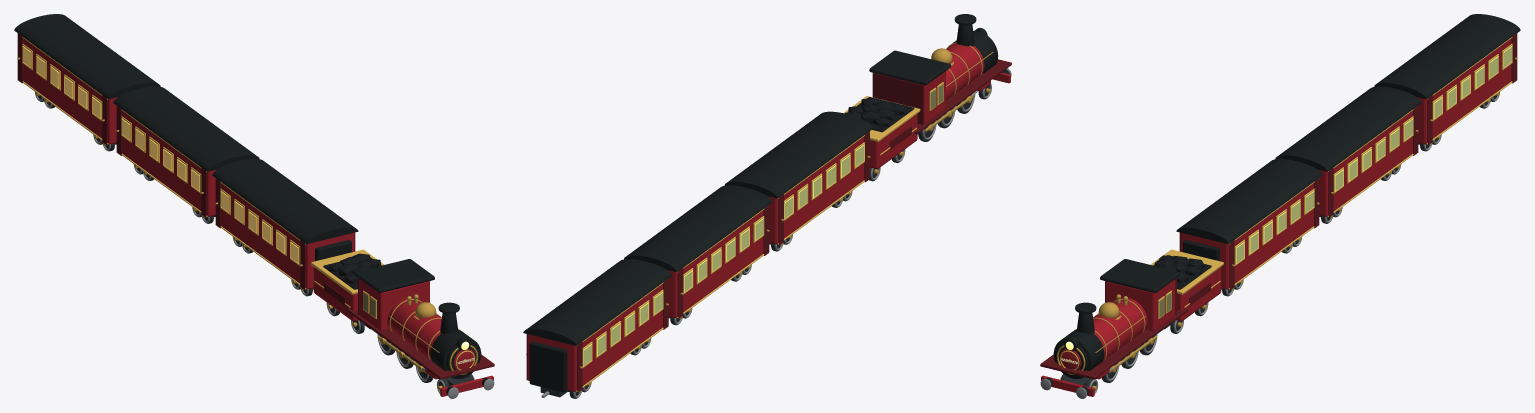
The model's file is hogwarts_express.glb.
The picture shows the model from 3 angles, left to right: view 1: azimuth 30°, elevation 25°; view 2: azimuth 150°, elevation 25°; view 3: azimuth 330°, elevation 25°; orthographic projection.
Parts seen in each view (by area): view 1: WEB_Train_Batched_18_MAT_Smokebox_Black, WEB_Train_Batched_29_MAT_Smokebox_Black, WEB_Train_Batched_40_MAT_Smokebox_Black, WEB_Train_Batched_02_MAT_Express_Crimson, WEB_Train_Batched_03_MAT_Smokebox_Black, CAR_01_Body, CAR_03_Body, CAR_02_Body, WEB_Train_Batched_01_MAT_Express_Shadow_Red, WEB_Train_Batched_04_MAT_Aged_Brass, WEB_Train_Batched_42_MAT_Warm_Interior, WEB_Train_Batched_20_MAT_Warm_Interior (+13 smaller); view 2: WEB_Train_Batched_40_MAT_Smokebox_Black, WEB_Train_Batched_29_MAT_Smokebox_Black, WEB_Train_Batched_18_MAT_Smokebox_Black, CAR_03_Body, WEB_Train_Batched_03_MAT_Smokebox_Black, CAR_01_Body, CAR_02_Body, WEB_Train_Batched_01_MAT_Express_Shadow_Red, WEB_Train_Batched_02_MAT_Express_Crimson, WEB_Train_Batched_13_MAT_Coal, TND_Body, WEB_Train_Batched_41_MAT_Carriage_Gold_Line (+13 smaller); view 3: WEB_Train_Batched_18_MAT_Smokebox_Black, WEB_Train_Batched_29_MAT_Smokebox_Black, WEB_Train_Batched_40_MAT_Smokebox_Black, WEB_Train_Batched_02_MAT_Express_Crimson, WEB_Train_Batched_03_MAT_Smokebox_Black, CAR_01_Body, CAR_03_Body, CAR_02_Body, WEB_Train_Batched_01_MAT_Express_Shadow_Red, WEB_Train_Batched_04_MAT_Aged_Brass, WEB_Train_Batched_42_MAT_Warm_Interior, WEB_Train_Batched_20_MAT_Warm_Interior (+13 smaller).
Part boxes in pixels (x1,y1,x2,y2): WEB_Train_Batched_18_MAT_Smokebox_Black: (212, 159, 358, 261); WEB_Train_Batched_29_MAT_Smokebox_Black: (113, 86, 259, 171); WEB_Train_Batched_40_MAT_Smokebox_Black: (14, 14, 160, 99); WEB_Train_Batched_02_MAT_Express_Crimson: (359, 279, 493, 396); WEB_Train_Batched_03_MAT_Smokebox_Black: (354, 259, 488, 394); CAR_01_Body: (221, 183, 354, 289); CAR_03_Body: (23, 38, 117, 144); CAR_02_Body: (122, 110, 216, 216); WEB_Train_Batched_01_MAT_Express_Shadow_Red: (347, 278, 494, 379); WEB_Train_Batched_04_MAT_Aged_Brass: (377, 294, 478, 374); WEB_Train_Batched_42_MAT_Warm_Interior: (22, 46, 101, 119); WEB_Train_Batched_20_MAT_Warm_Interior: (220, 191, 298, 264); WEB_Train_Batched_40_MAT_Smokebox_Black: (523, 259, 671, 392); WEB_Train_Batched_29_MAT_Smokebox_Black: (624, 185, 772, 272); WEB_Train_Batched_18_MAT_Smokebox_Black: (724, 111, 873, 198); CAR_03_Body: (527, 284, 662, 391); WEB_Train_Batched_03_MAT_Smokebox_Black: (869, 14, 1009, 85); CAR_01_Body: (768, 136, 864, 244); CAR_02_Body: (667, 210, 763, 317); WEB_Train_Batched_01_MAT_Express_Shadow_Red: (872, 59, 1011, 134); WEB_Train_Batched_02_MAT_Express_Crimson: (924, 42, 1010, 123); WEB_Train_Batched_13_MAT_Coal: (845, 97, 914, 132); TND_Body: (870, 113, 917, 168); WEB_Train_Batched_41_MAT_Carriage_Gold_Line: (526, 282, 663, 391); WEB_Train_Batched_18_MAT_Smokebox_Black: (1176, 159, 1322, 261); WEB_Train_Batched_29_MAT_Smokebox_Black: (1275, 86, 1421, 171); WEB_Train_Batched_40_MAT_Smokebox_Black: (1374, 14, 1520, 99); WEB_Train_Batched_02_MAT_Express_Crimson: (1041, 279, 1175, 396); WEB_Train_Batched_03_MAT_Smokebox_Black: (1046, 259, 1180, 394); CAR_01_Body: (1180, 183, 1313, 289); CAR_03_Body: (1417, 38, 1511, 144); CAR_02_Body: (1318, 110, 1412, 216); WEB_Train_Batched_01_MAT_Express_Shadow_Red: (1040, 278, 1187, 379); WEB_Train_Batched_04_MAT_Aged_Brass: (1056, 294, 1157, 374); WEB_Train_Batched_42_MAT_Warm_Interior: (1433, 46, 1512, 119); WEB_Train_Batched_20_MAT_Warm_Interior: (1236, 191, 1314, 264).
Size of the model in its own units: 3.65 by 4.95 by 48.69.
